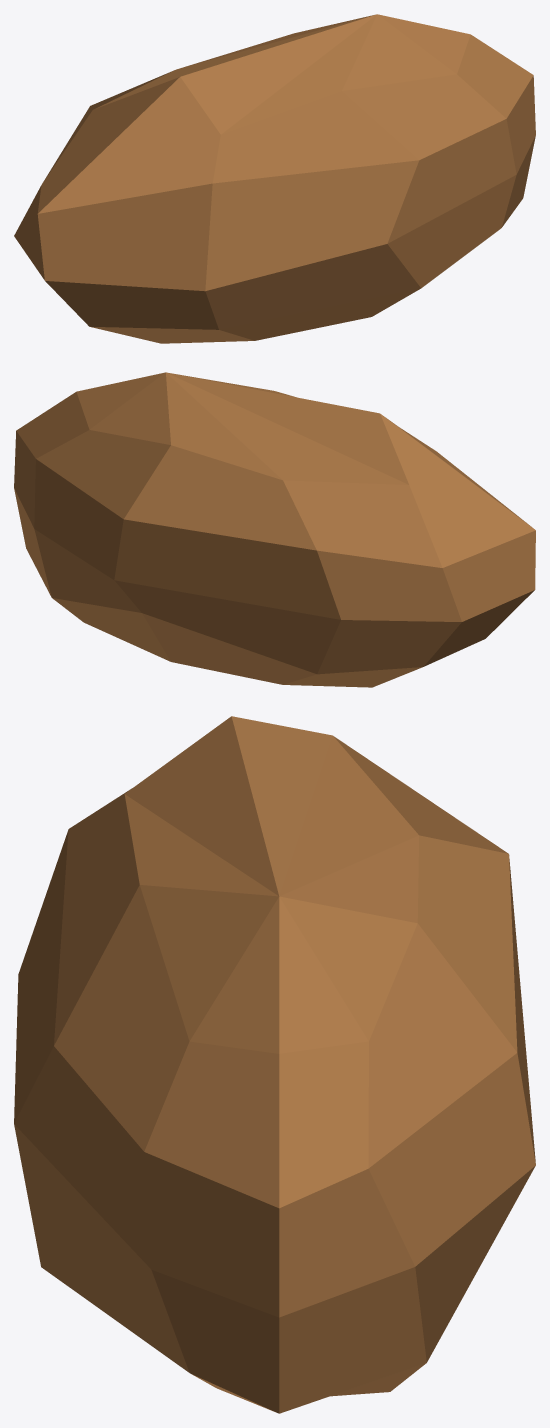
The model's file is Small_Rock_0.2,0.1,0.1_Colored.fbx.
3 renders of one model, top to bottom at view 1: azimuth 30°, elevation 25°; view 2: azimuth 150°, elevation 25°; view 3: azimuth 270°, elevation 25°, orthographic. The views are drawn at different scales.
Parts seen in each view (by area): view 1: Small_Rock_0_2_0_1_0_1; view 2: Small_Rock_0_2_0_1_0_1; view 3: Small_Rock_0_2_0_1_0_1.
Boxes of the visible parts, x1,y1,x2,y2 form: Small_Rock_0_2_0_1_0_1: (14, 14, 535, 343); Small_Rock_0_2_0_1_0_1: (14, 372, 535, 687); Small_Rock_0_2_0_1_0_1: (14, 716, 535, 1413).
Size of the model in its own units: 20.3 by 9.8 by 9.89.
